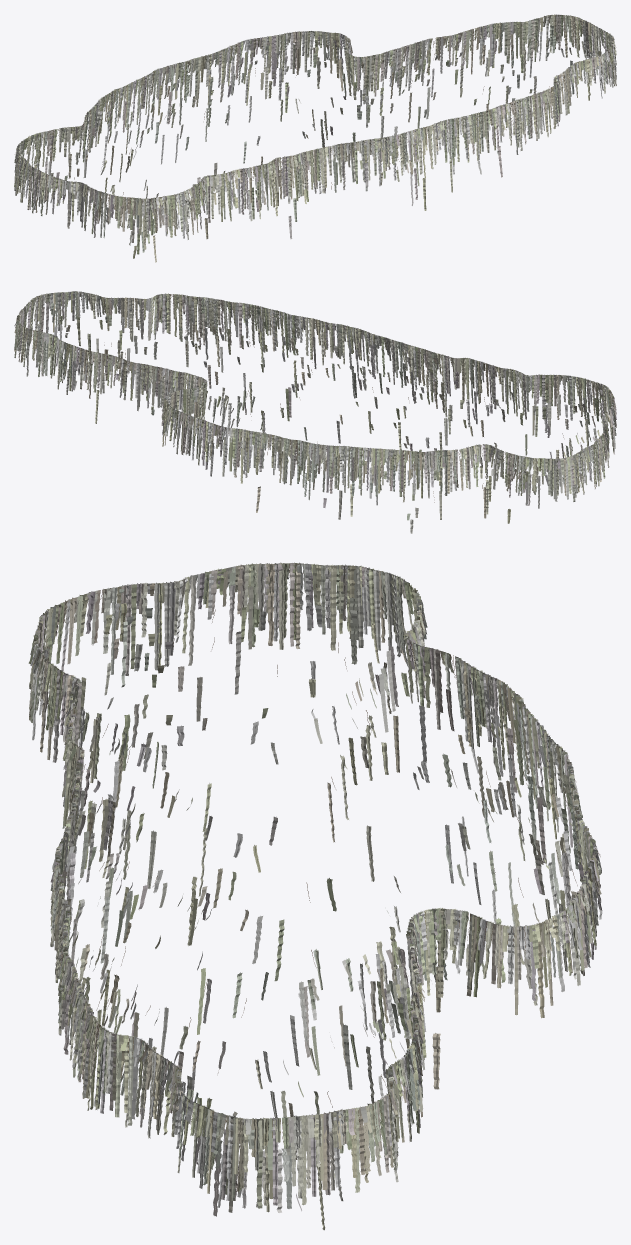
File: SM_H17_Vines.fbx
3 renders of one model, top to bottom at view 1: azimuth 30°, elevation 25°; view 2: azimuth 150°, elevation 25°; view 3: azimuth 270°, elevation 25°, orthographic. The views are drawn at different scales.
Parts seen in each view (by area): view 1: SM_H17_Vines; view 2: SM_H17_Vines; view 3: SM_H17_Vines.
Part boxes in pixels (x1,y1,x2,y2): SM_H17_Vines: (14,14,616,262); SM_H17_Vines: (14,291,616,533); SM_H17_Vines: (28,562,602,1230).
Size of the model in its own units: 384 by 74.76 by 166.
